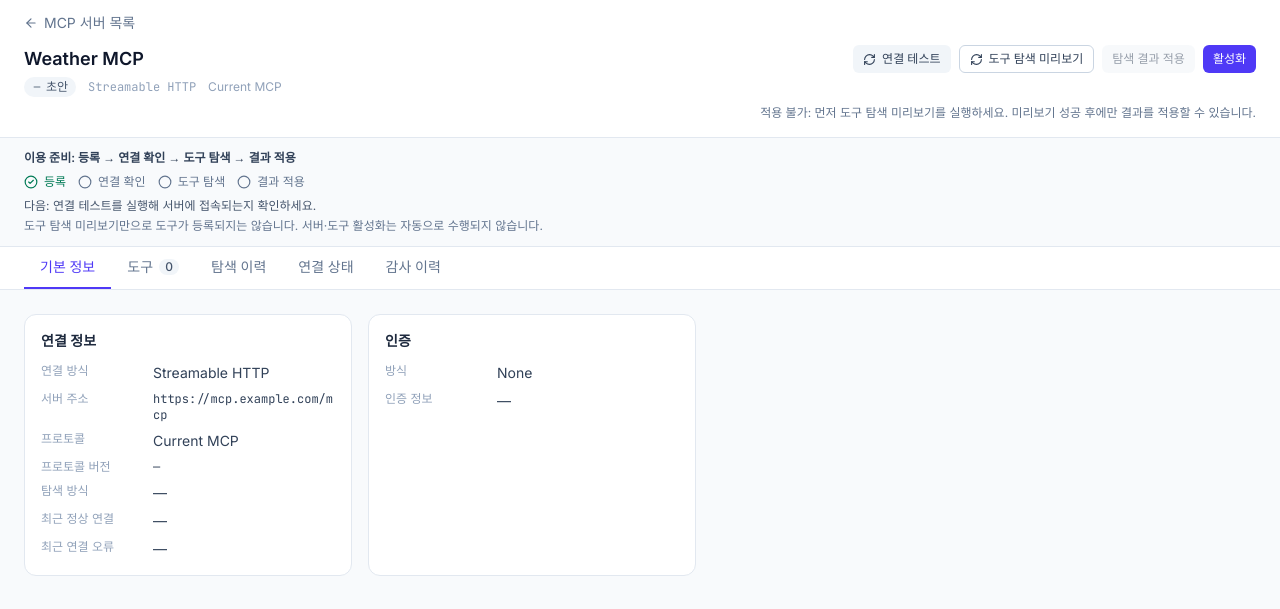
Test: MCPServerDetail beginner setup and empty guidance › shows connect next action and apply disabled reason for draft without tools
The image size is (1280, 609).
Expected: the heading "Weather MCP" is shown, [24, 48, 144, 69]
Expected: the text with test id "mcp-server-setup-next" shows "연결 테스트", [53, 198, 316, 213]
Click the button "도구 0".
click(153, 268)  # box [111, 247, 195, 289]
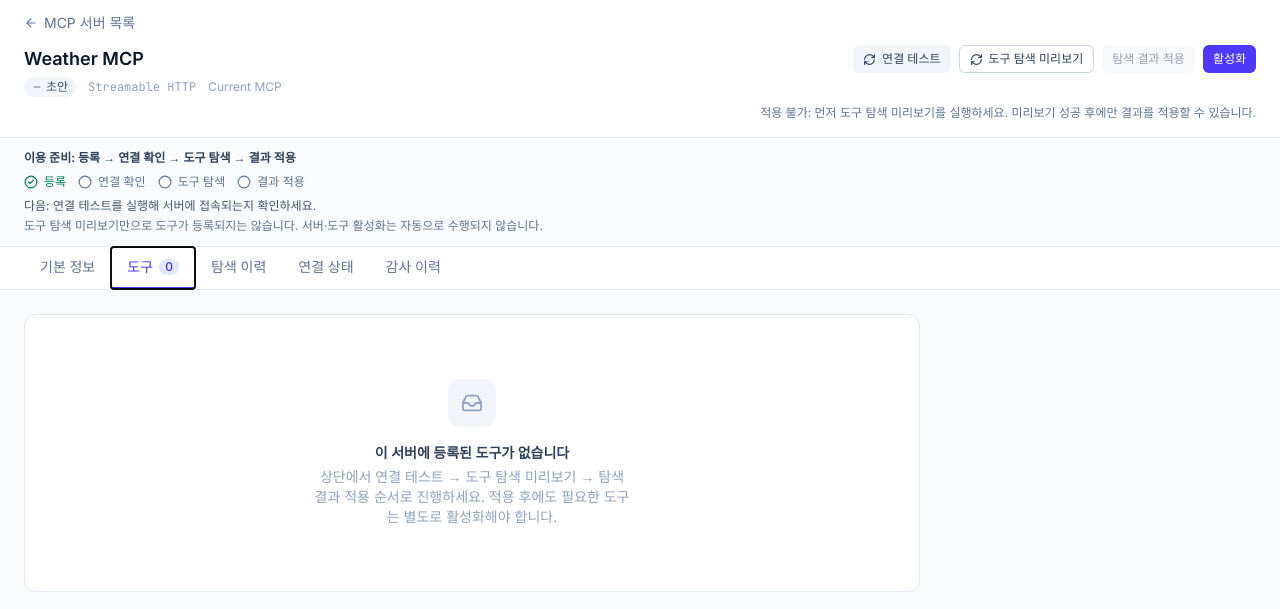
Result: the heading "이 서버에 등록된 도구가 없습니다" is shown at [375, 443, 569, 463]
Result: the text "연결 테스트 → 도구 탐색 미리보기 → 탐색 결과 적용" is shown at [314, 468, 630, 525]
Click the button "탐색 이력".
click(239, 268)  # box [195, 247, 282, 289]
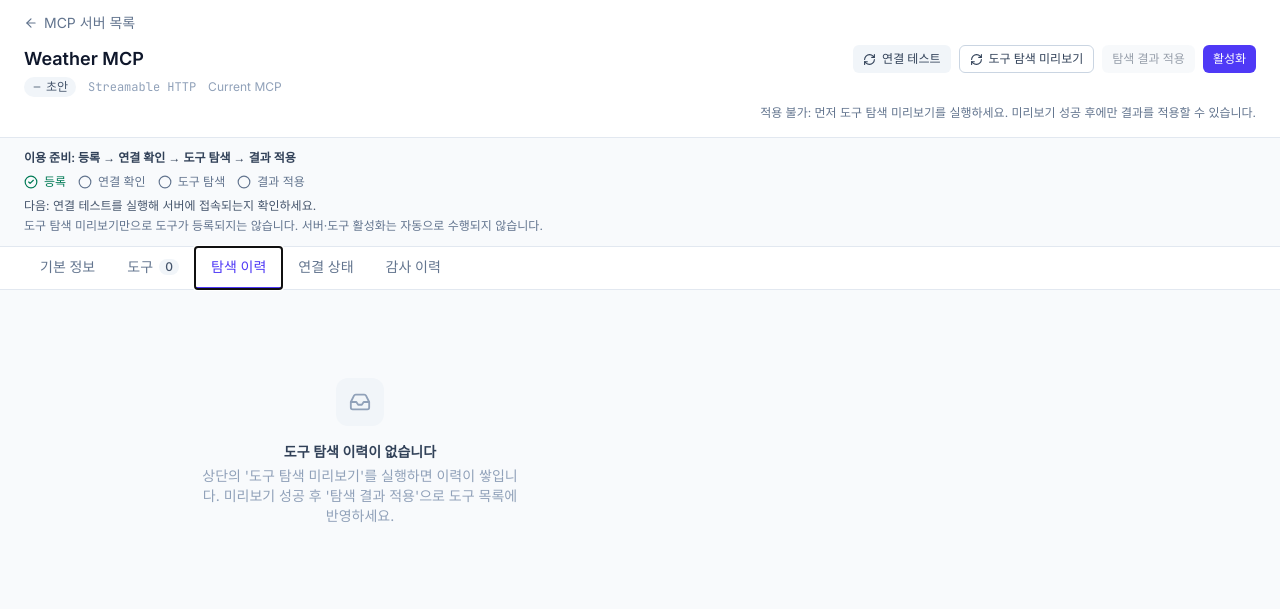
Result: the heading "도구 탐색 이력이 없습니다" is shown at [284, 442, 436, 462]
Result: the text "상단의 '도구 탐색 미리보기'를 실행하면" is shown at [202, 467, 518, 524]
